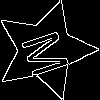M: (20, 25, 80, 80)
